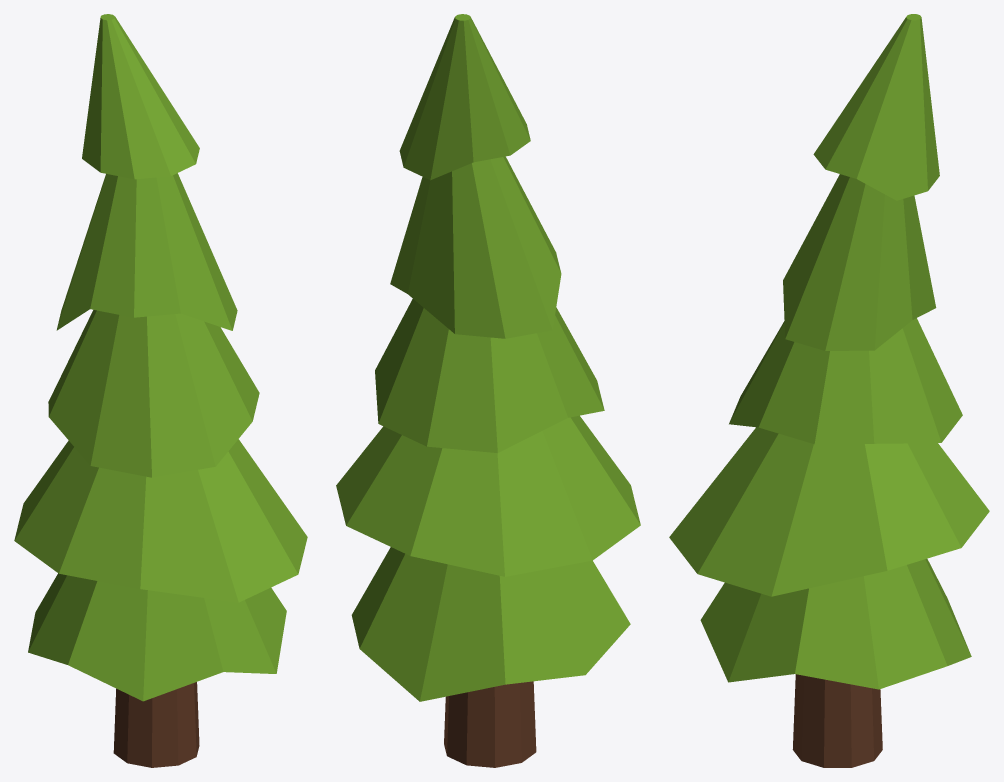
Rendered from Natures2t6-green.fbx.
The picture shows the model from 3 angles, left to right: view 1: azimuth 30°, elevation 25°; view 2: azimuth 150°, elevation 25°; view 3: azimuth 270°, elevation 25°; orthographic projection. The views are drawn at different scales.
Parts seen in each view (by area): view 1: t6-green; view 2: t6-green; view 3: t6-green.
Part boxes in pixels (x1,y1,x2,y2): t6-green: (14, 14, 307, 767); t6-green: (336, 14, 640, 767); t6-green: (669, 14, 989, 767).
Size of the model in its own units: 303 by 864 by 346.
